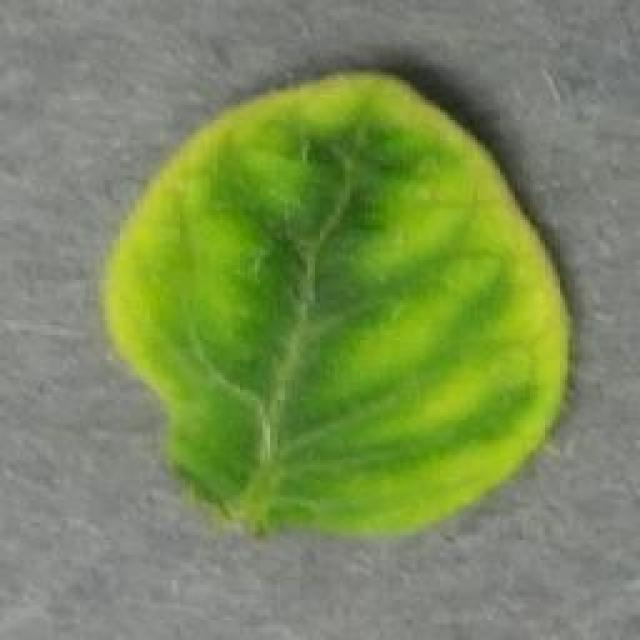Tomato yellow virus leaf: (103, 66, 565, 532)
